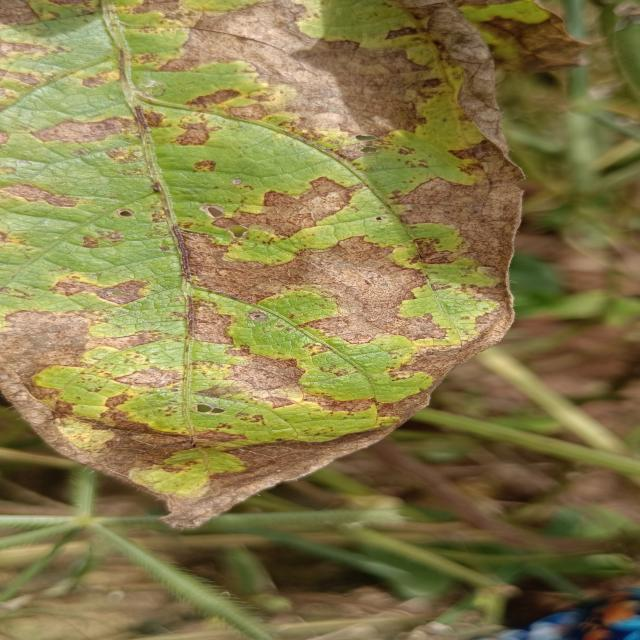Black gram_leaf spot: (0, 0, 551, 536)
